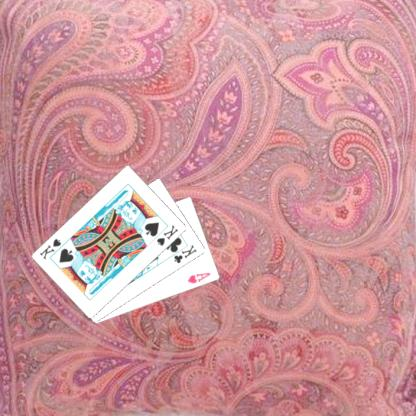AH: (187, 270, 214, 285)
KC: (168, 242, 200, 264)
KS: (39, 236, 69, 261), (156, 222, 181, 248)
